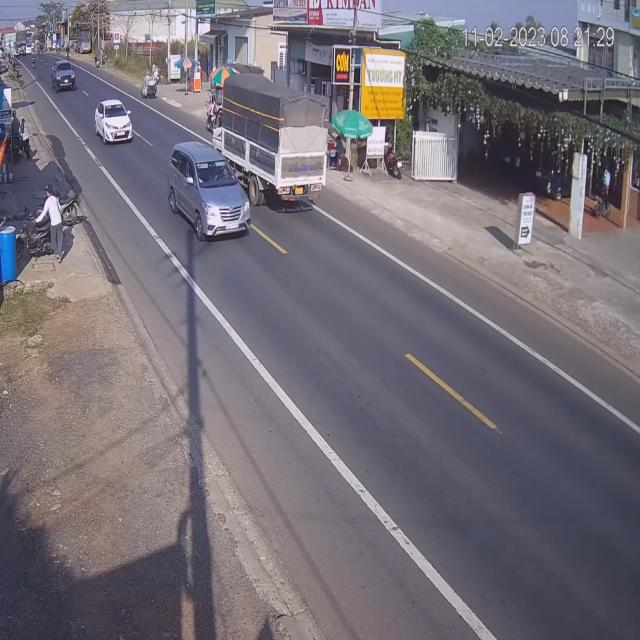car: (170, 142, 252, 245), (93, 100, 132, 146), (54, 61, 78, 92)
motorbike: (140, 74, 158, 102), (206, 100, 217, 132)
truck: (210, 76, 330, 213)
